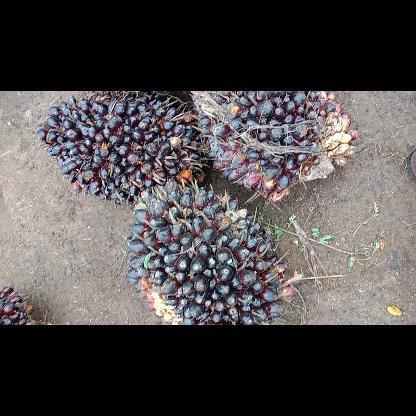TBS mentah: (122, 178, 300, 324), (188, 90, 360, 206), (34, 95, 210, 205)
